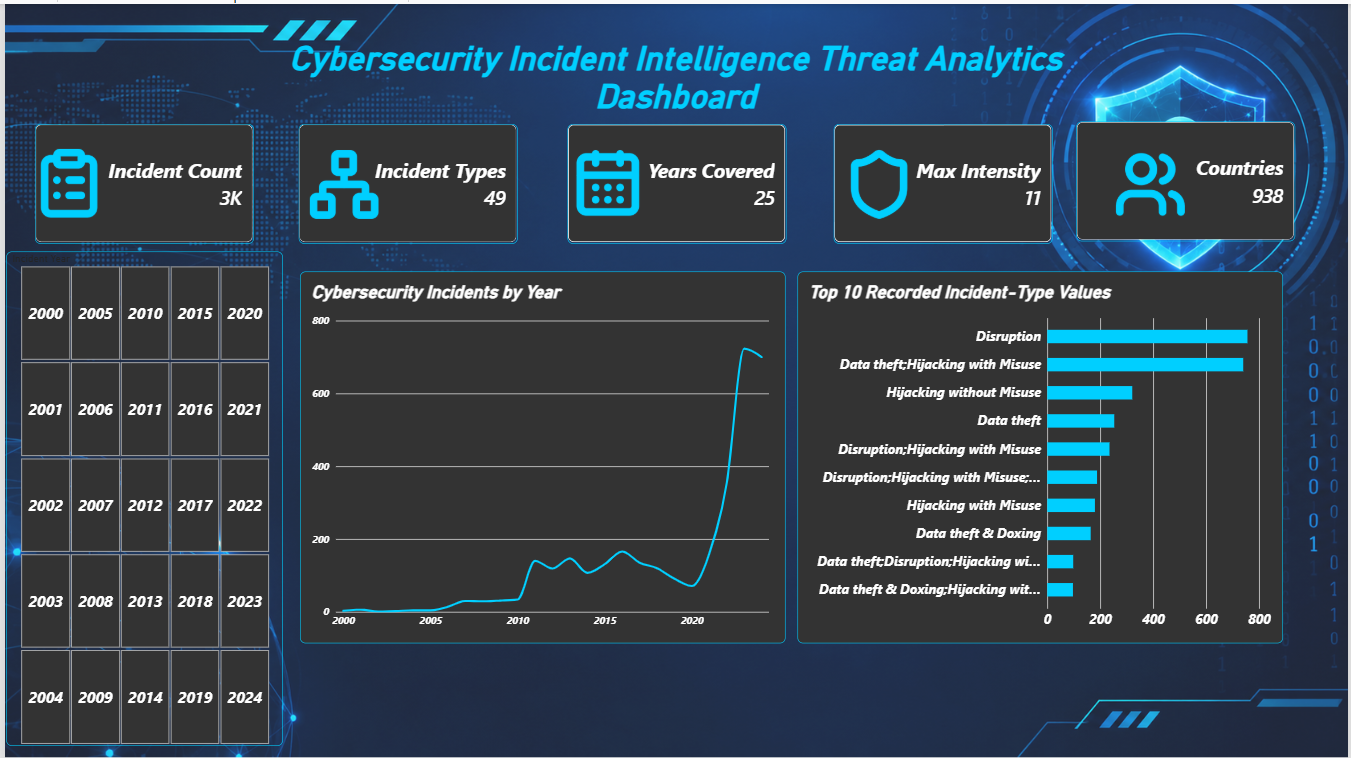

This screenshot's page, from the dashboard's own definition file:
{"tool":"powerbi","page":{"name":"Executive Overview","canvas":[1920,1080],"ordinal":0},"visuals":[{"type":"shape","title":"Cybersecurity Incident Intelligence Threat Analytics Dashboard ","box":[296.4,49.4,1323.5,121.4],"z":0},{"type":"cardVisual","fields":{"Data":["cybersecurity_incident_db eurepoc_incidents_clean.Incident Count"]},"box":[43.2,170.8,312.9,170.8],"z":1000},{"type":"cardVisual","fields":{"Data":["cybersecurity_incident_db eurepoc_incidents_clean.Years Covered"]},"box":[802.7,170.8,312.9,170.8],"z":2000},{"type":"cardVisual","fields":{"Data":["cybersecurity_incident_db eurepoc_incidents_clean.Incident Types"]},"box":[419.9,170.8,312.9,170.8],"z":3000},{"type":"cardVisual","fields":{"Data":["cybersecurity_incident_db eurepoc_incidents_clean.Max Intensity"]},"box":[1183.5,170.8,312.9,170.8],"z":4000},{"type":"cardVisual","fields":{"Data":["cybersecurity_incident_db eurepoc_incidents_clean.Countries"]},"box":[1530,168,312.9,170.8],"z":5000},{"type":"lineChart","title":"Cybersecurity Incidents by Year","fields":{"Category":["cybersecurity_incident_db eurepoc_incidents_clean.start_date_clean.Variation.Date Hierarchy.Year","cybersecurity_incident_db eurepoc_incidents_clean.start_date_clean.Variation.Date Hierarchy.Quarter","cybersecurity_incident_db eurepoc_incidents_clean.start_date_clean.Variation.Date Hierarchy.Month","cybersecurity_incident_db eurepoc_incidents_clean.start_date_clean.Variation.Date Hierarchy.Day"],"Y":["CountNonNull(cybersecurity_incident_db eurepoc_incidents_clean.incident_id)"]},"box":[422,382.8,693.7,531],"z":6000},{"type":"clusteredBarChart","title":"Top 10 Recorded Incident-Type Values","fields":{"Category":["cybersecurity_incident_db eurepoc_incidents_clean.incident_type"],"Y":["CountNonNull(cybersecurity_incident_db eurepoc_incidents_clean.incident_id)"]},"box":[1132,382,693.7,531],"z":7000},{"type":"slicer","fields":{"Values":["cybersecurity_incident_db eurepoc_incidents_clean.Incident Year"]},"box":[2,354,395.2,706],"z":8000},{"type":"image","box":[0,203.8,183.2,105],"z":8001},{"type":"image","box":[393.1,205.8,183.2,105],"z":8002},{"type":"image","box":[769.8,205.8,183.2,105],"z":8003},{"type":"image","box":[1156.8,205.8,183.2,105],"z":8004},{"type":"image","box":[1544,206,183.2,105],"z":8005}]}

Visuals, with their boxes in screenshot pixels (x1, y1, x2, y2), scaled from the page's 1920x1080 canvas onto the 1351x758 screenshot:
"Cybersecurity Incident Intelligence Threat Analytics Dashboard " shape: x1=209, y1=35, x2=1140, y2=120
cardVisual - cybersecurity_incident_db eurepoc_incidents_clean.Incident Count: x1=30, y1=120, x2=251, y2=240
cardVisual - cybersecurity_incident_db eurepoc_incidents_clean.Years Covered: x1=565, y1=120, x2=785, y2=240
cardVisual - cybersecurity_incident_db eurepoc_incidents_clean.Incident Types: x1=295, y1=120, x2=516, y2=240
cardVisual - cybersecurity_incident_db eurepoc_incidents_clean.Max Intensity: x1=833, y1=120, x2=1053, y2=240
cardVisual - cybersecurity_incident_db eurepoc_incidents_clean.Countries: x1=1077, y1=118, x2=1297, y2=238
"Cybersecurity Incidents by Year" lineChart: x1=297, y1=269, x2=785, y2=641
"Top 10 Recorded Incident-Type Values" clusteredBarChart: x1=797, y1=268, x2=1285, y2=641
slicer - cybersecurity_incident_db eurepoc_incidents_clean.Incident Year: x1=1, y1=248, x2=279, y2=744
image: x1=0, y1=143, x2=129, y2=217
image: x1=277, y1=144, x2=406, y2=218
image: x1=542, y1=144, x2=671, y2=218
image: x1=814, y1=144, x2=943, y2=218
image: x1=1086, y1=145, x2=1215, y2=218
